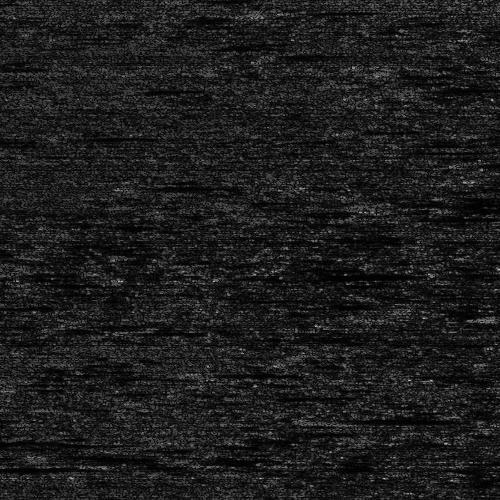object: (291, 416, 374, 423), (421, 161, 500, 168), (166, 369, 239, 374), (468, 314, 500, 319)
shadow: (0, 436, 98, 447), (332, 416, 439, 423), (203, 369, 300, 374), (468, 161, 500, 168)
